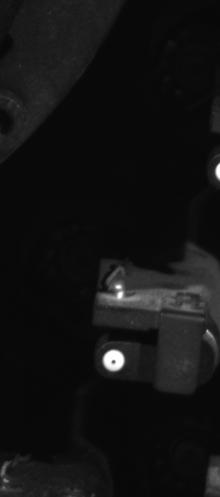fiber: (99, 350, 134, 383)
